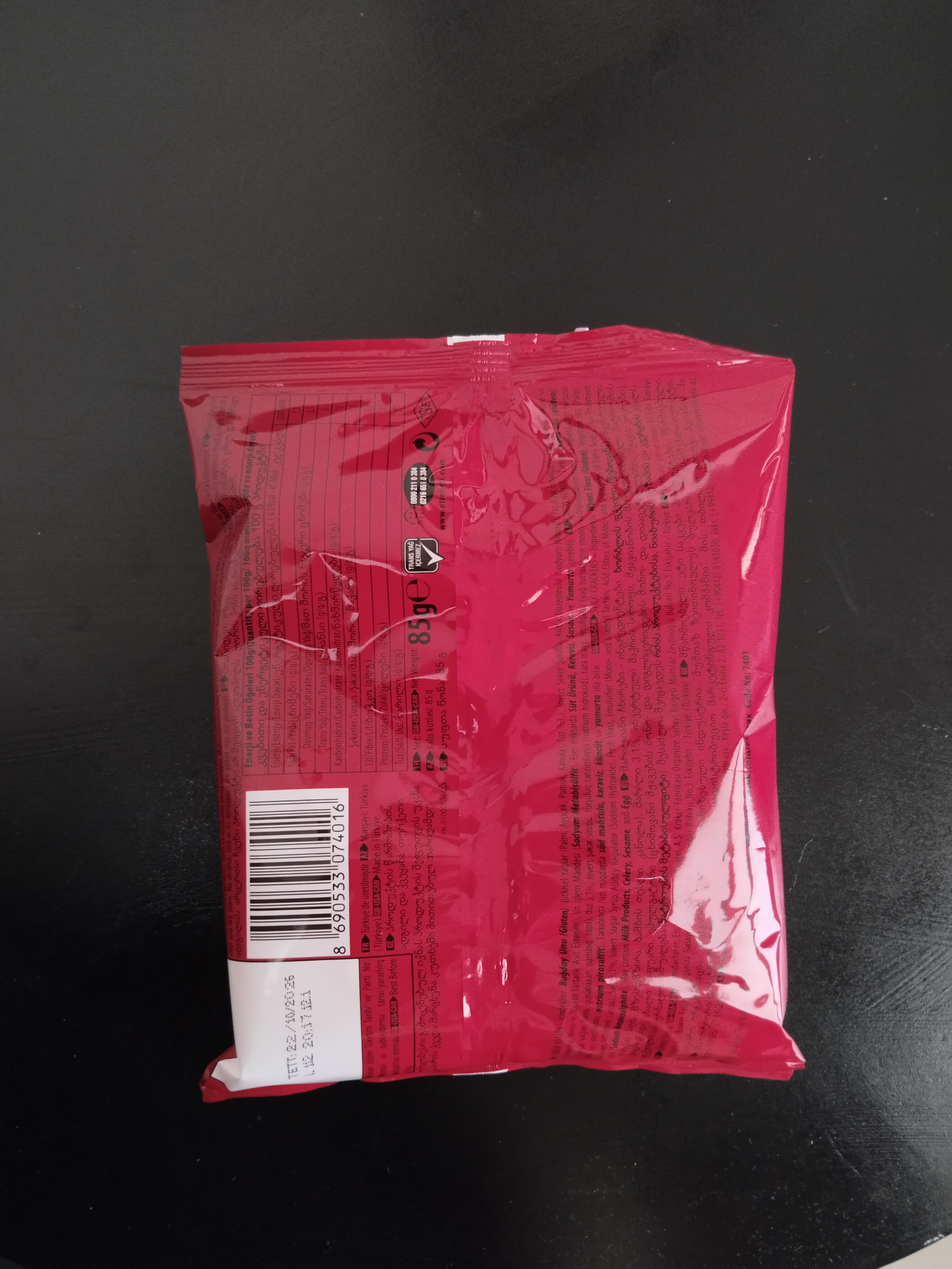eti_crax_cubuk_kraker: (176, 328, 795, 1095)
